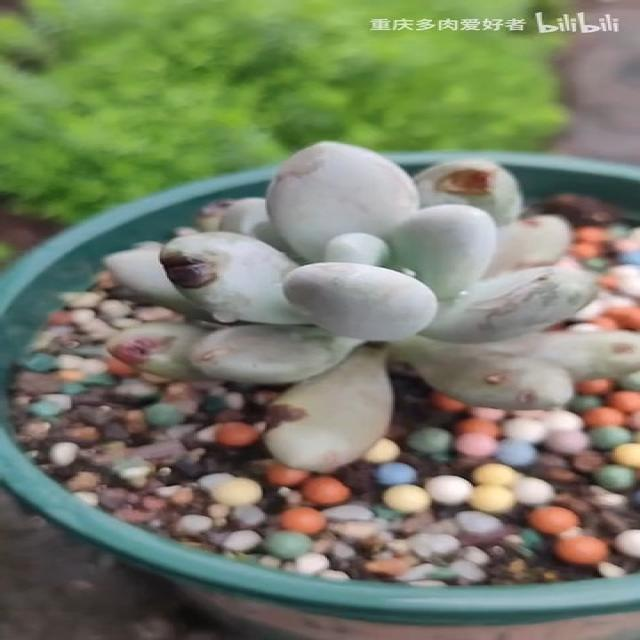-: (154, 248, 218, 292), (432, 170, 500, 200)
